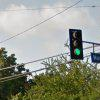Traffic light: (58, 23, 96, 73)
